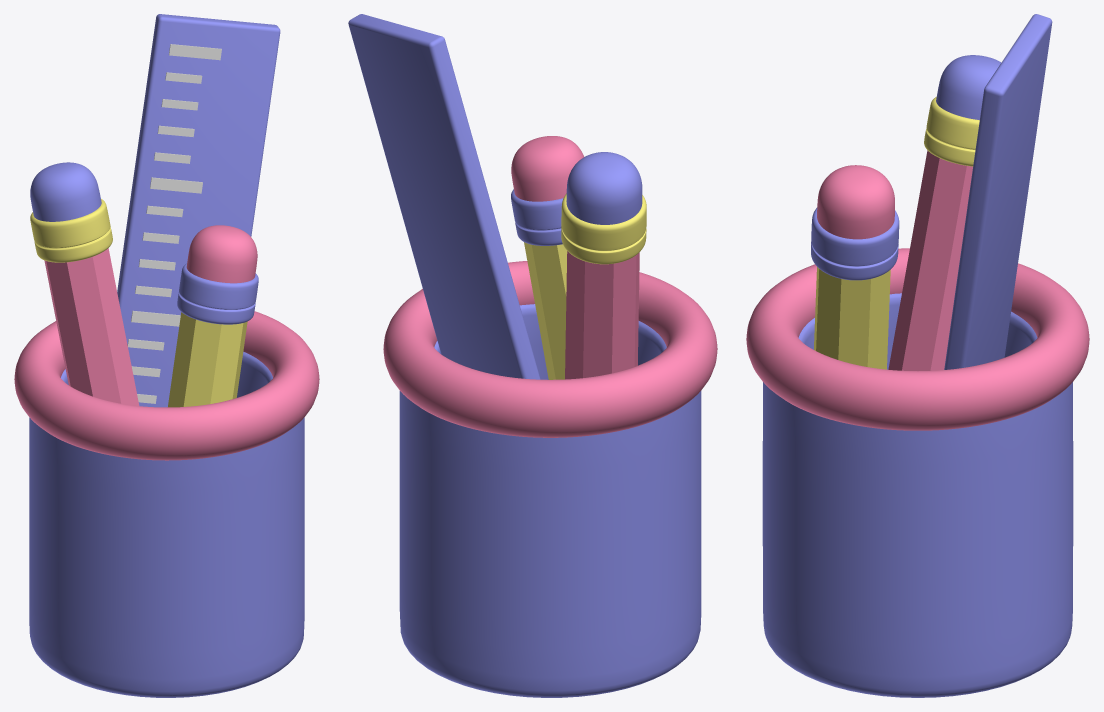
Rendered from pencil1.glb.
The picture shows the model from 3 angles, left to right: view 1: azimuth 30°, elevation 25°; view 2: azimuth 150°, elevation 25°; view 3: azimuth 270°, elevation 25°; orthographic projection. The views are drawn at different scales.
Parts seen in each view (by area): view 1: 0012; view 2: 0012; view 3: 0012.
Boxes of the visible parts, bbox=[...] form: 0012: bbox=[14, 14, 319, 697]; 0012: bbox=[348, 14, 717, 697]; 0012: bbox=[746, 14, 1089, 697].
Size of the model in its own units: 1.27 by 2.52 by 1.2.
